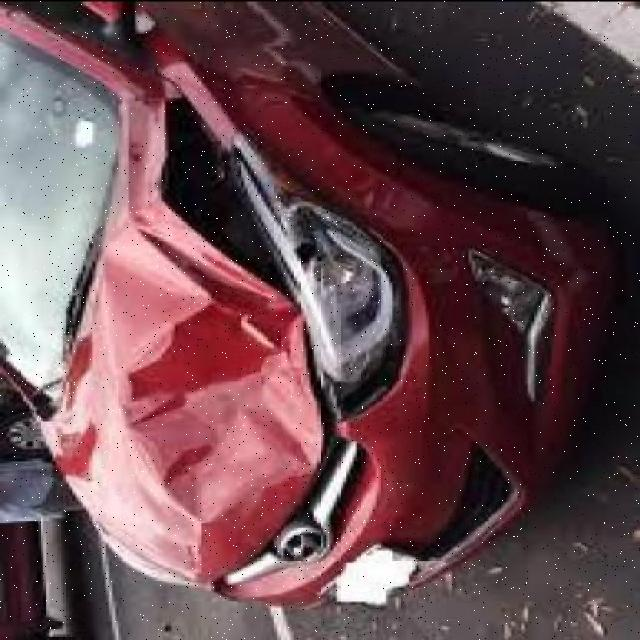damage: (94, 76, 337, 579)
